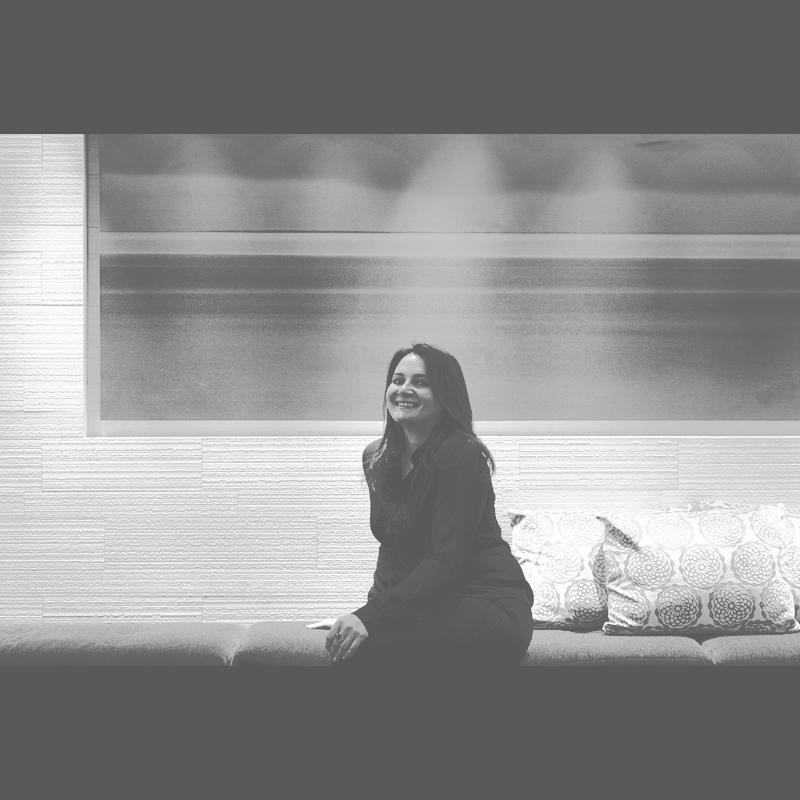pillow: (504, 502, 688, 632), (702, 499, 786, 512)
